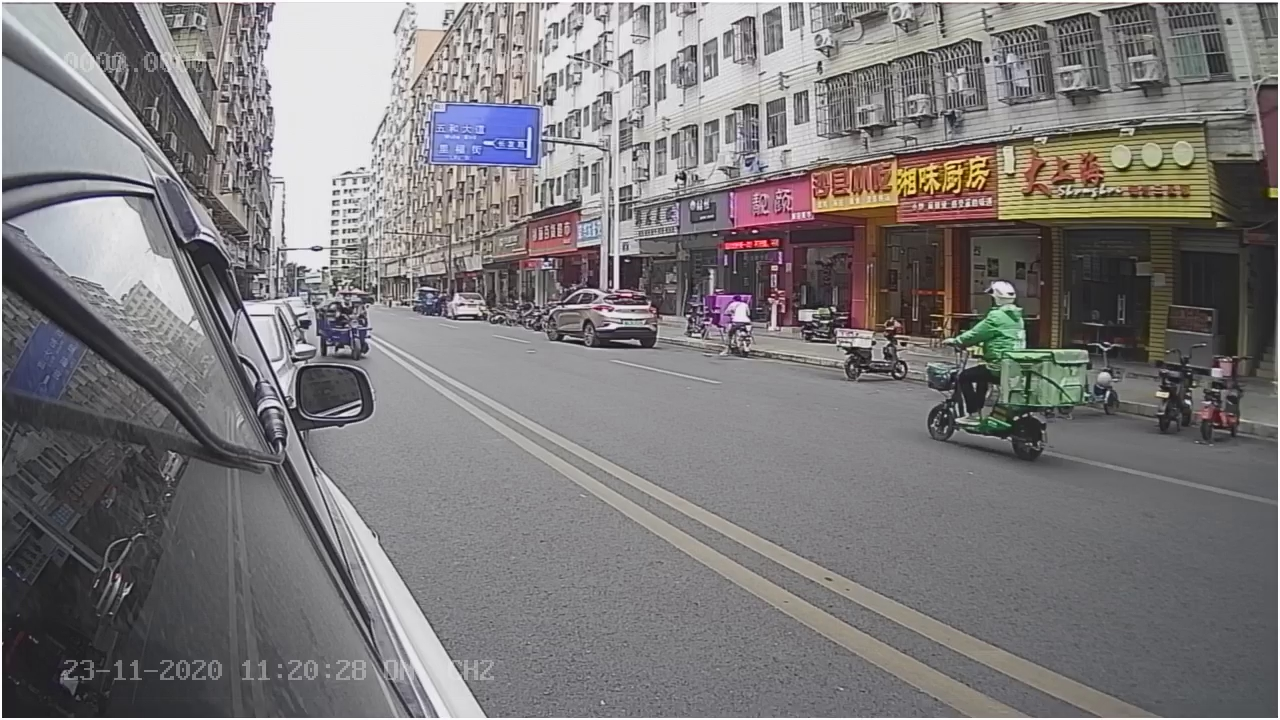person: (963, 280, 1028, 347)
